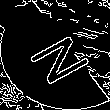N_NE: (17, 24, 93, 86)
